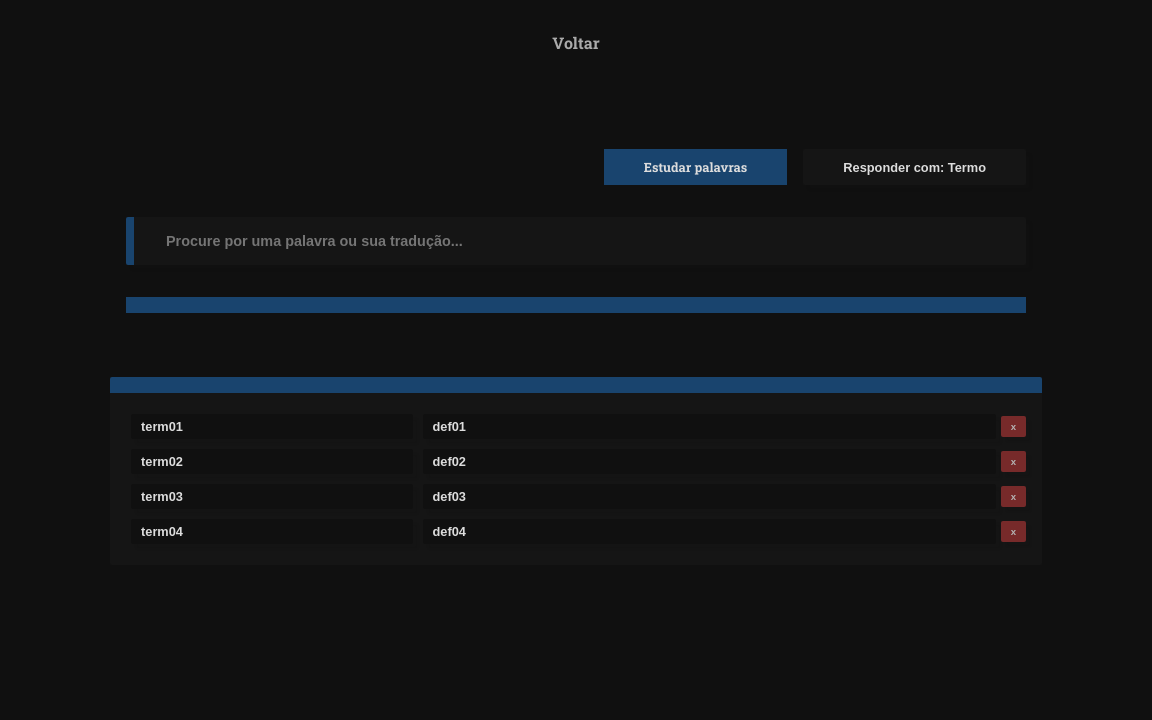
WordList - Remove word › Remove one word from the list
The image size is (1152, 720).
What coordinates should you click on to do the following:
click the 1st button "x"
I would click on:
 (1013, 426)
Its box is [1001, 416, 1026, 437].
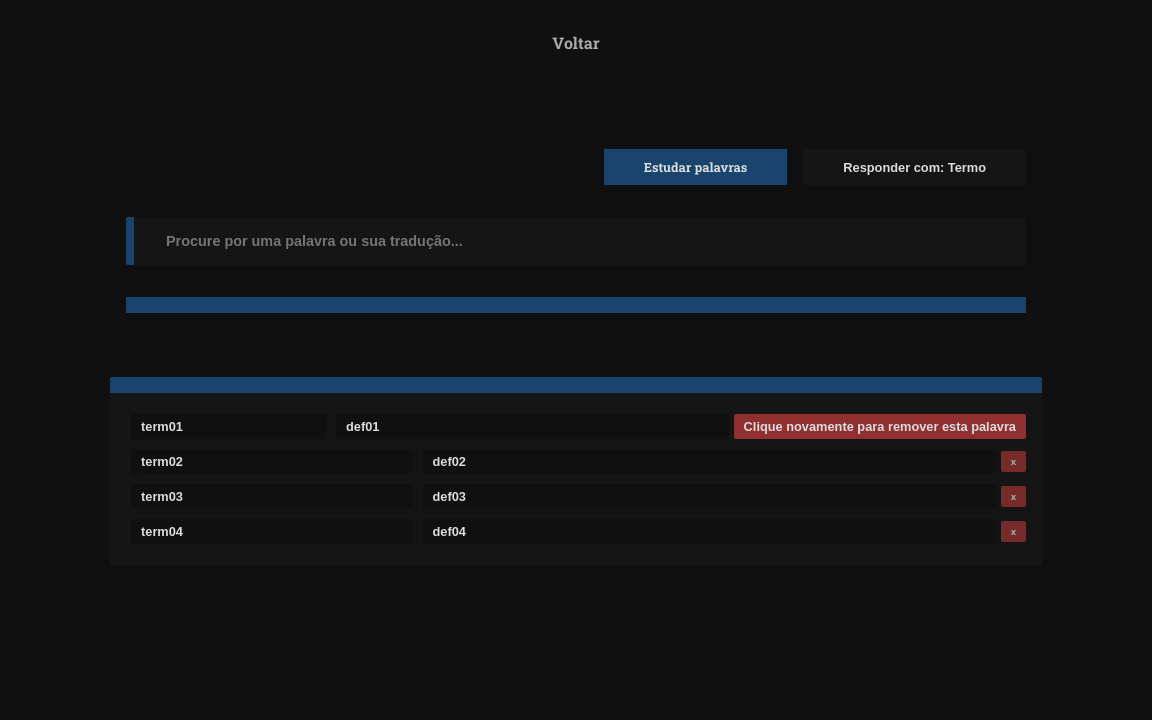
What coordinates should you click on to do the following:
click the button "Clique novamente para remover esta palavra"
I would click on:
 (880, 426)
Its box is [734, 414, 1026, 439].
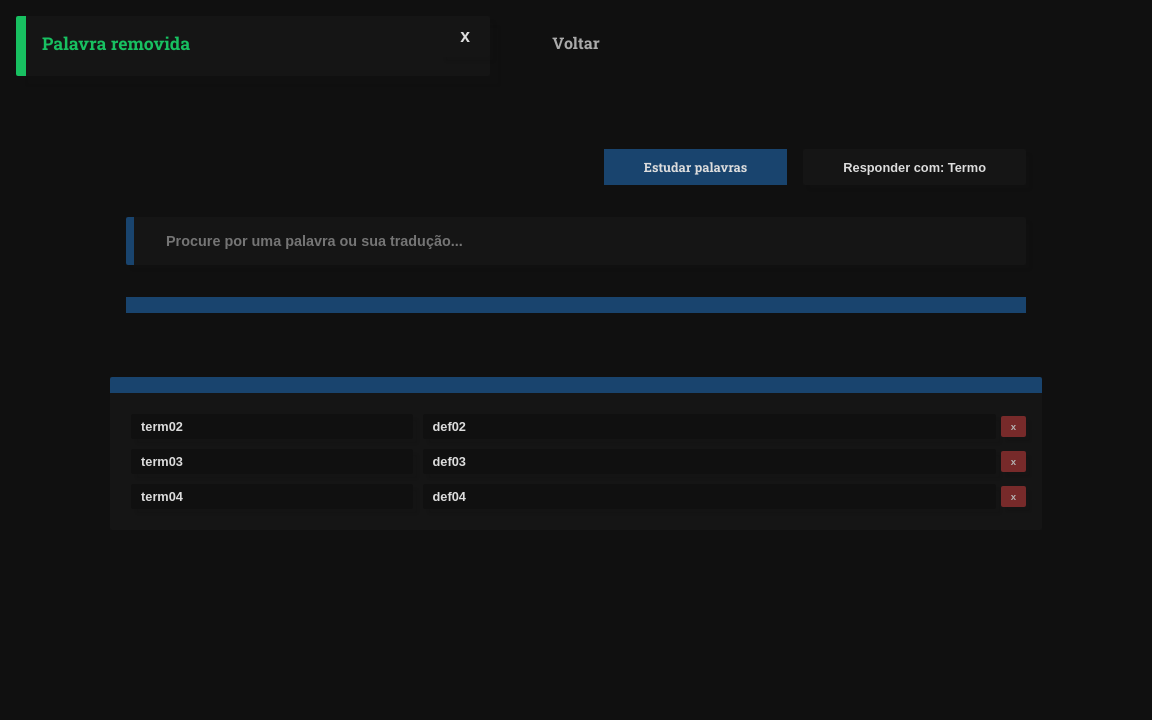
expect the heading with class "title" reads "Palavra removida": met, box [42, 32, 190, 55]
